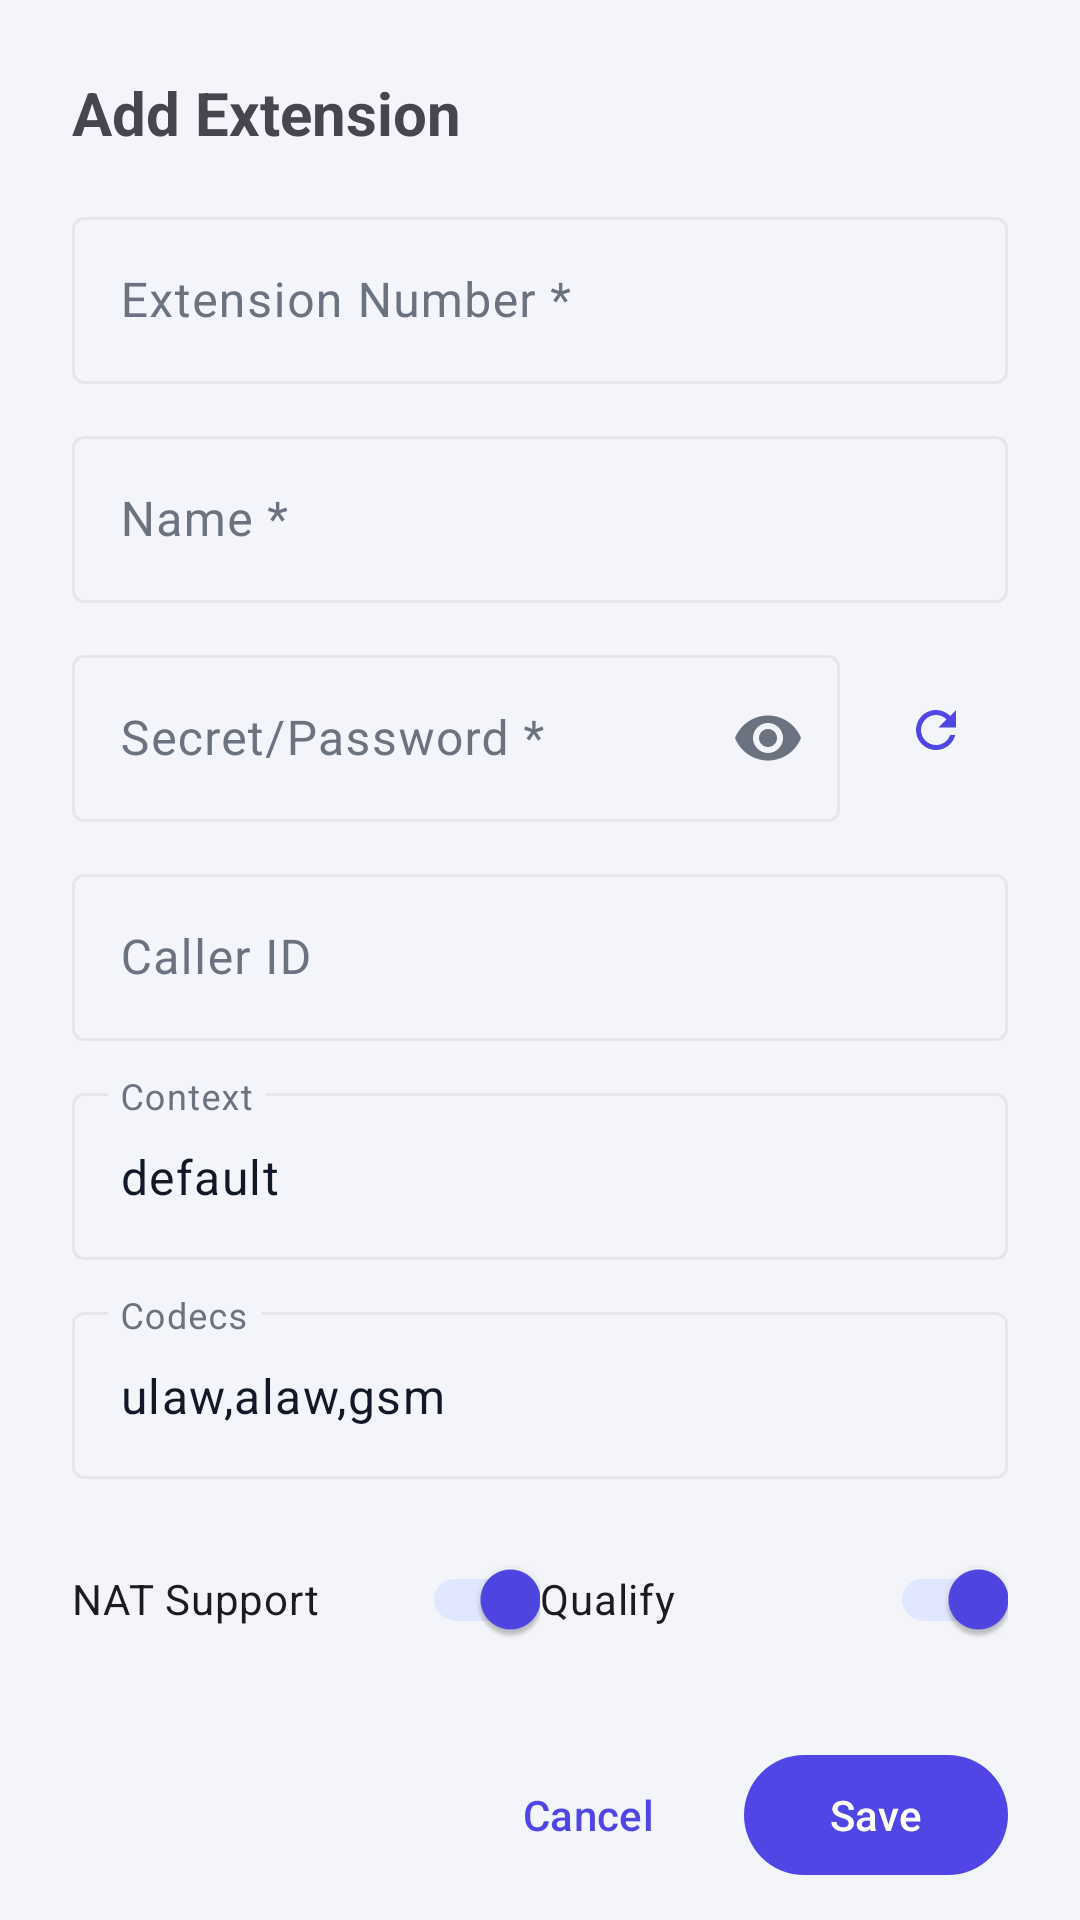

Point at icon controls on the screen. Image size 1080px x 1920px, points as (x,y).
refresh: (936,730)
